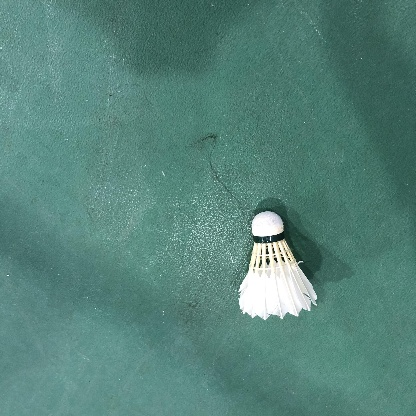ball_single: (238, 211, 318, 320)
